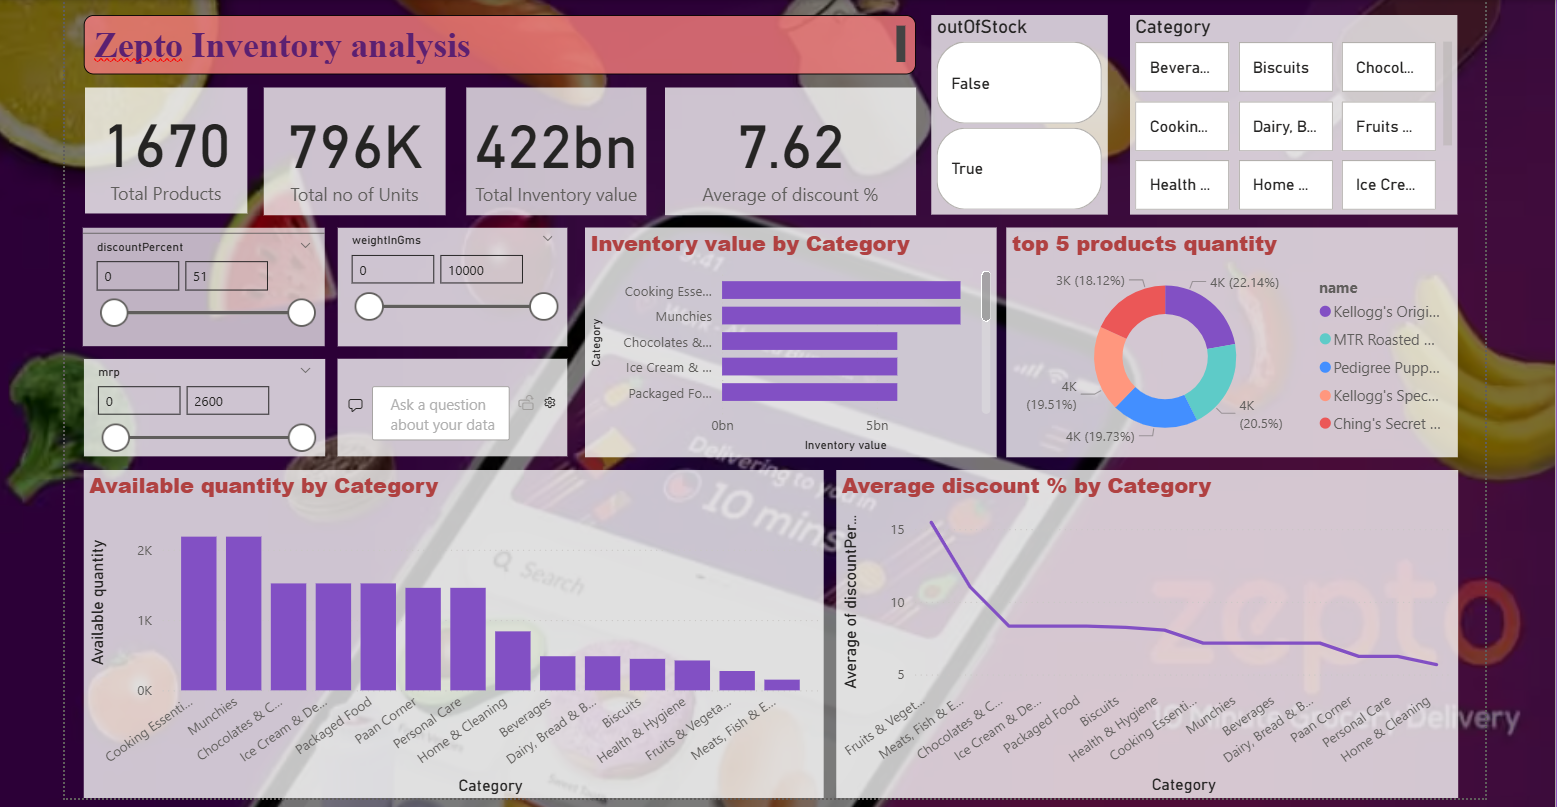

What the dashboard file says about the page in this screenshot:
{"tool":"powerbi","page":{"name":"Page 1","canvas":[1280,720],"ordinal":0},"visuals":[{"type":"clusteredColumnChart","fields":{"Y":["Sum(zepto_v2.availableQuantity)"],"Category":["zepto_v2.Category"]},"box":[17.4,423.3,667.4,297.7],"z":0},{"type":"advancedSlicerVisual","fields":{"Values":["zepto_v2.Category"]},"box":[960.5,14,295.3,180.2],"z":1000},{"type":"card","fields":{"Values":["Sum(zepto_v2.quantity)"]},"box":[178.8,78.8,163.8,115],"z":2000},{"type":"card","fields":{"Values":["zepto_v2.discountedSellingPrice x quantity"]},"box":[361.2,78.8,162.5,115],"z":3000},{"type":"card","fields":{"Values":["Avg(zepto_v2.discountPercent)"]},"box":[541.2,78.8,226.2,115],"z":4000},{"type":"card","fields":{"Values":["Count(zepto_v2.name)"]},"box":[17.5,78.8,146.2,113.8],"z":5000},{"type":"slicer","fields":{"Values":["zepto_v2.discountPercent"]},"box":[16.3,204.7,218.6,107],"z":6000},{"type":"slicer","fields":{"Values":["zepto_v2.mrp"]},"box":[17.4,323.3,217.4,88.4],"z":7000},{"type":"textbox","box":[17.4,14,750,53.5],"z":8000},{"type":"slicer","fields":{"Values":["zepto_v2.weightInGms"]},"box":[245.3,204.7,207,107],"z":9000},{"type":"advancedSlicerVisual","fields":{"Values":["zepto_v2.outOfStock"]},"box":[781.4,14,159.3,180.2],"z":10000},{"type":"barChart","fields":{"Category":["zepto_v2.Category"],"Y":["zepto_v2.discountedSellingPrice x quantity"]},"box":[468.6,204.7,370.9,207],"z":11000},{"type":"qnaVisual","box":[245.3,323.3,207,88.4],"z":12000},{"type":"donutChart","title":"top 5 products quantity","fields":{"Category":["zepto_v2.name"],"Y":["zepto_v2.quantity max per name 2"]},"box":[848.8,204.7,407,207],"z":13000},{"type":"lineChart","title":"Average discount % by Category","fields":{"Category":["zepto_v2.Category"],"Y":["Avg(zepto_v2.discountPercent)"]},"box":[695.4,423.3,560.5,296.5],"z":14000}]}

Visuals, with their boxes in screenshot pixels (x1, y1, x2, y2):
clusteredColumnChart - Sum(zepto_v2.availableQuantity) x zepto_v2.Category: locate(84, 464, 822, 793)
advancedSlicerVisual - zepto_v2.Category: locate(1126, 11, 1453, 211)
card - Sum(zepto_v2.quantity): locate(262, 83, 444, 210)
card - zepto_v2.discountedSellingPrice x quantity: locate(464, 83, 644, 210)
card - Avg(zepto_v2.discountPercent): locate(663, 83, 913, 210)
card - Count(zepto_v2.name): locate(84, 83, 246, 209)
slicer - zepto_v2.discountPercent: locate(83, 222, 324, 340)
slicer - zepto_v2.mrp: locate(84, 353, 324, 451)
textbox: locate(84, 11, 913, 71)
slicer - zepto_v2.weightInGms: locate(336, 222, 565, 340)
advancedSlicerVisual - zepto_v2.outOfStock: locate(928, 11, 1105, 211)
barChart - zepto_v2.Category x zepto_v2.discountedSellingPrice x quantity: locate(583, 222, 993, 451)
qnaVisual: locate(336, 353, 565, 451)
"top 5 products quantity" donutChart: locate(1003, 222, 1453, 451)
"Average discount % by Category" lineChart: locate(833, 464, 1453, 791)
